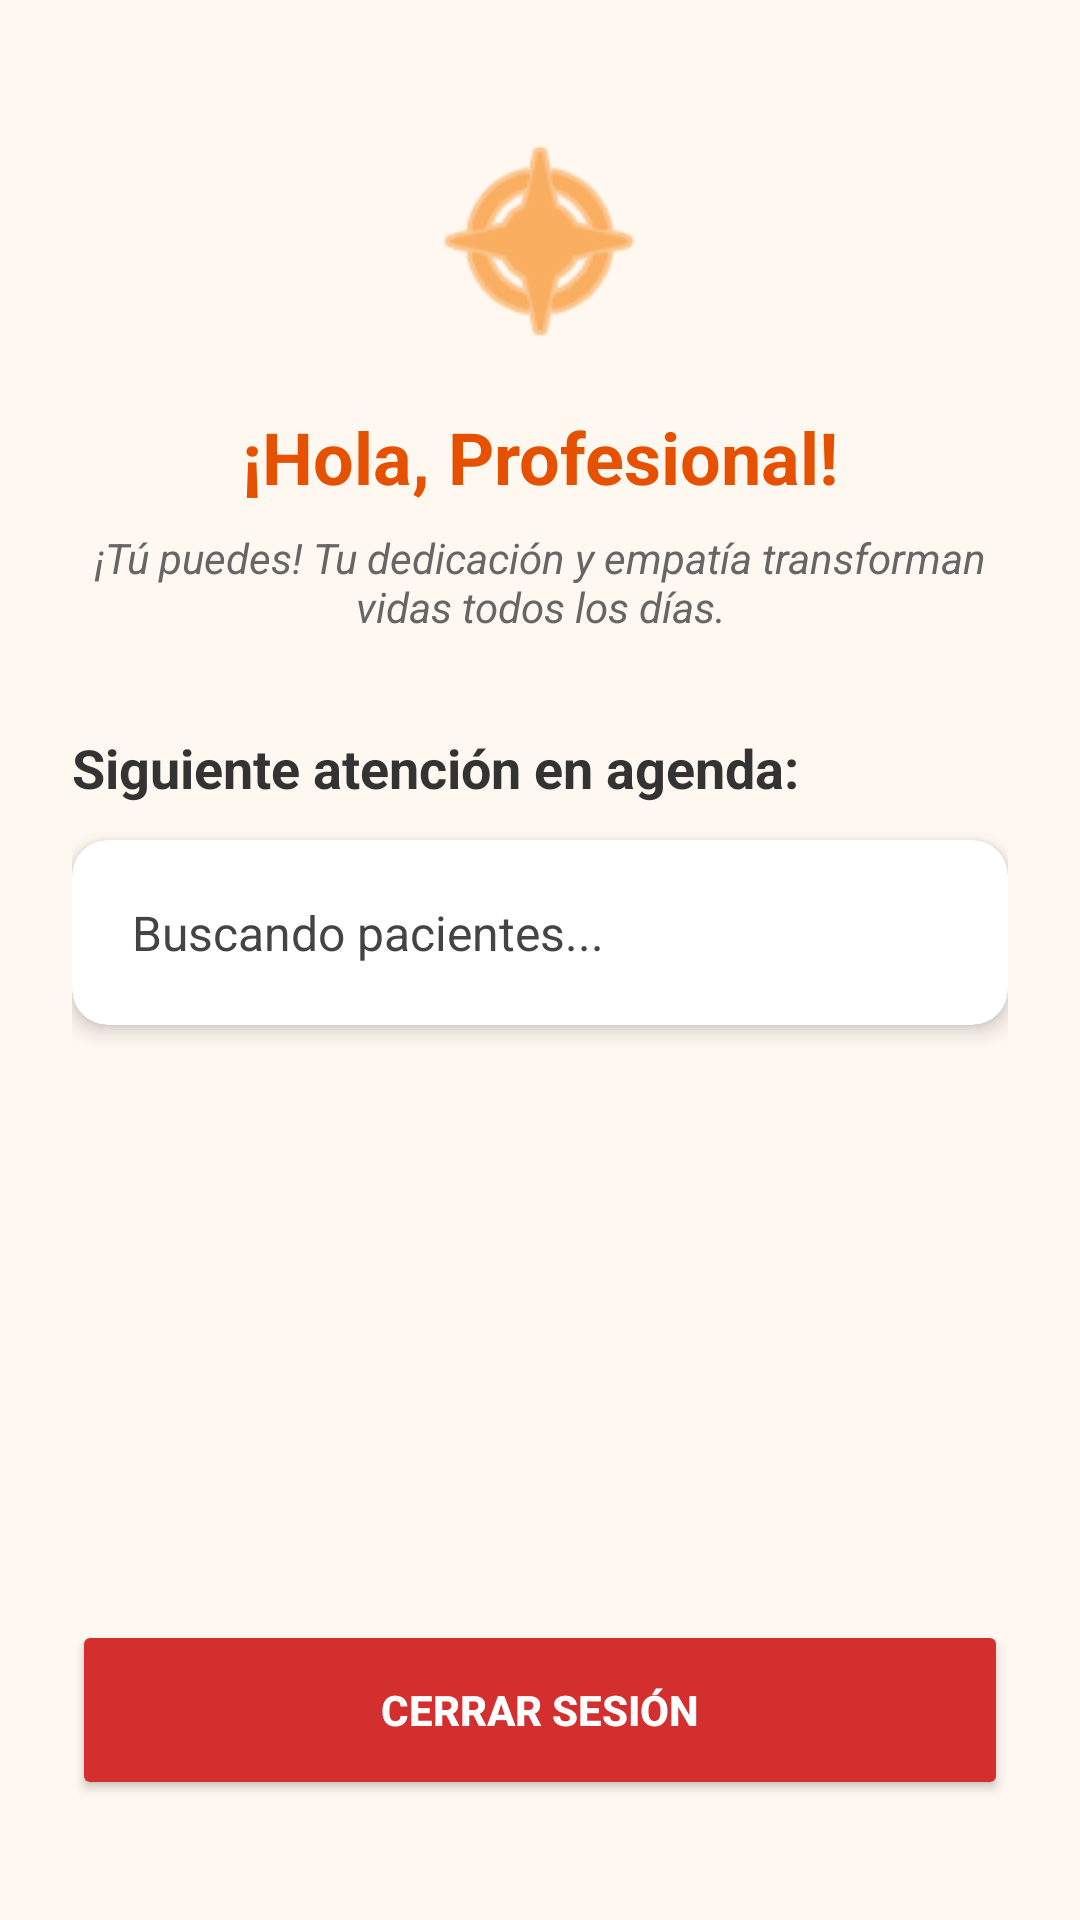

Screen size 1080 x 1920. Icon name, then its box in pixels as [left=x1, top=y1, right=x2, bottom=y2]:
compass: [left=444, top=147, right=634, bottom=336]
